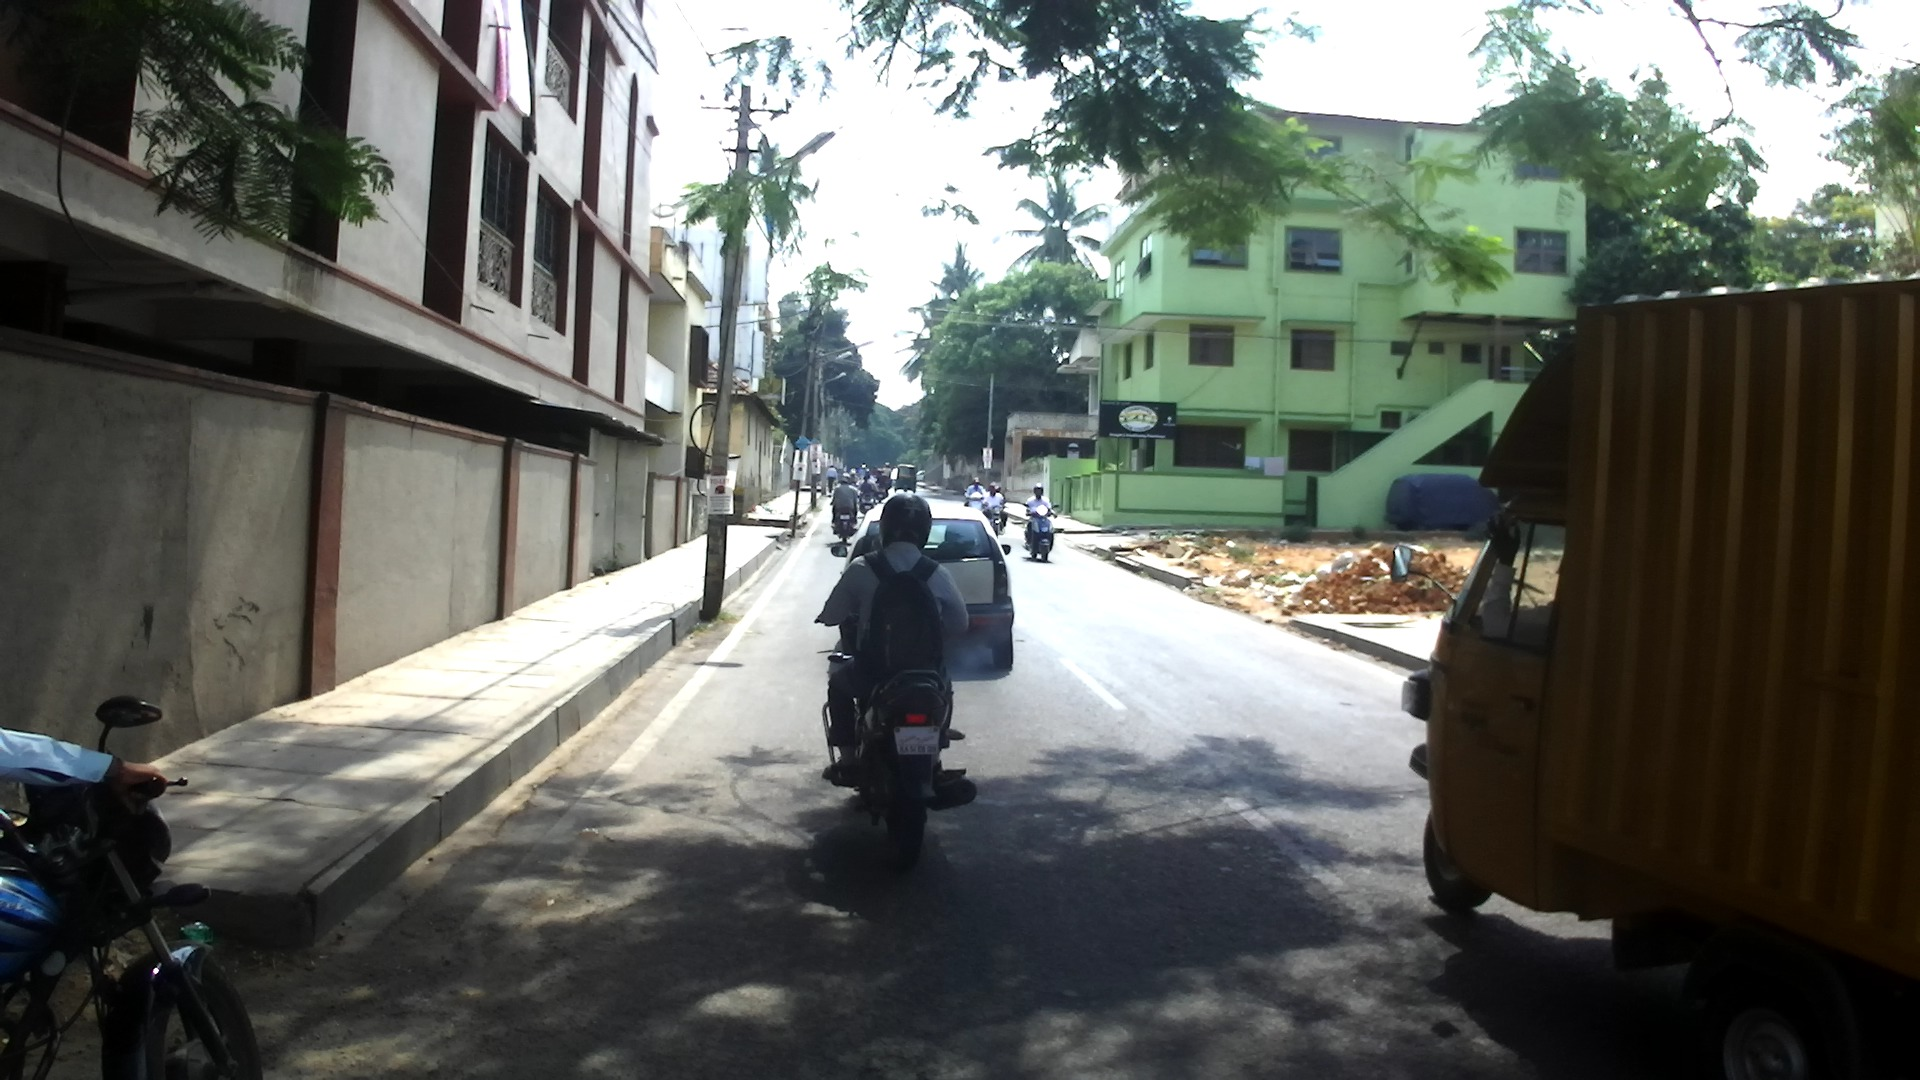autorickshaw: (1400, 283, 1920, 1077), (895, 463, 917, 494)
car: (830, 505, 1014, 670), (1384, 475, 1510, 532), (890, 465, 902, 488), (913, 469, 927, 483)
motorcycle: (1, 694, 261, 1080), (814, 609, 977, 873), (1021, 501, 1059, 562), (828, 494, 861, 544), (982, 504, 1005, 539), (964, 489, 985, 516), (859, 495, 878, 515), (875, 485, 888, 504), (879, 476, 891, 492), (849, 480, 857, 491)
person: (826, 464, 837, 495)
rider: (812, 491, 969, 784), (1, 728, 165, 797), (830, 472, 859, 528), (1025, 484, 1057, 525), (981, 484, 1007, 527), (839, 472, 860, 526), (964, 478, 985, 507), (988, 483, 1004, 511), (859, 473, 878, 495), (860, 475, 874, 497), (875, 470, 889, 491), (879, 461, 891, 478), (847, 469, 859, 484), (863, 468, 873, 482), (855, 466, 867, 477), (871, 465, 880, 478), (861, 463, 867, 470)
vehicle fallback: (889, 467, 897, 487)
